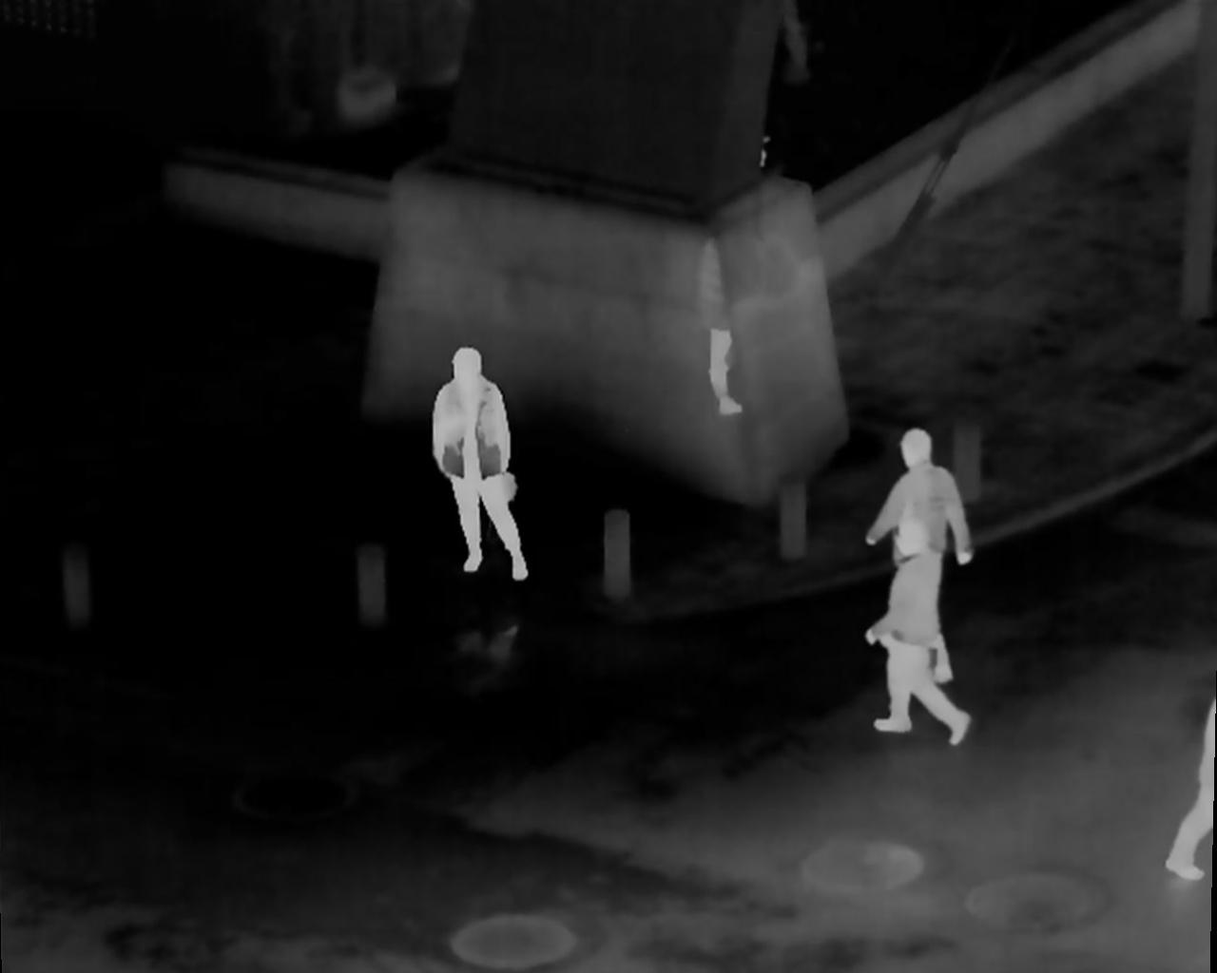person: (859, 426, 980, 678), (870, 525, 980, 742), (433, 348, 531, 581), (1160, 681, 1217, 886)
